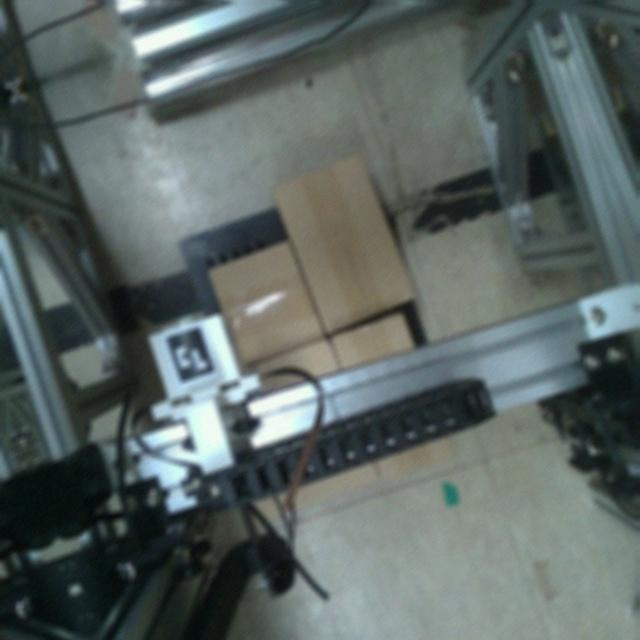box: (268, 146, 423, 338), (204, 234, 330, 370)
